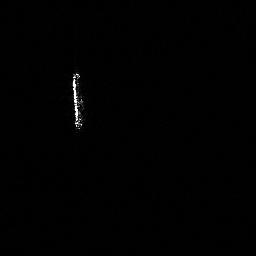ship: (69, 70, 88, 132)
